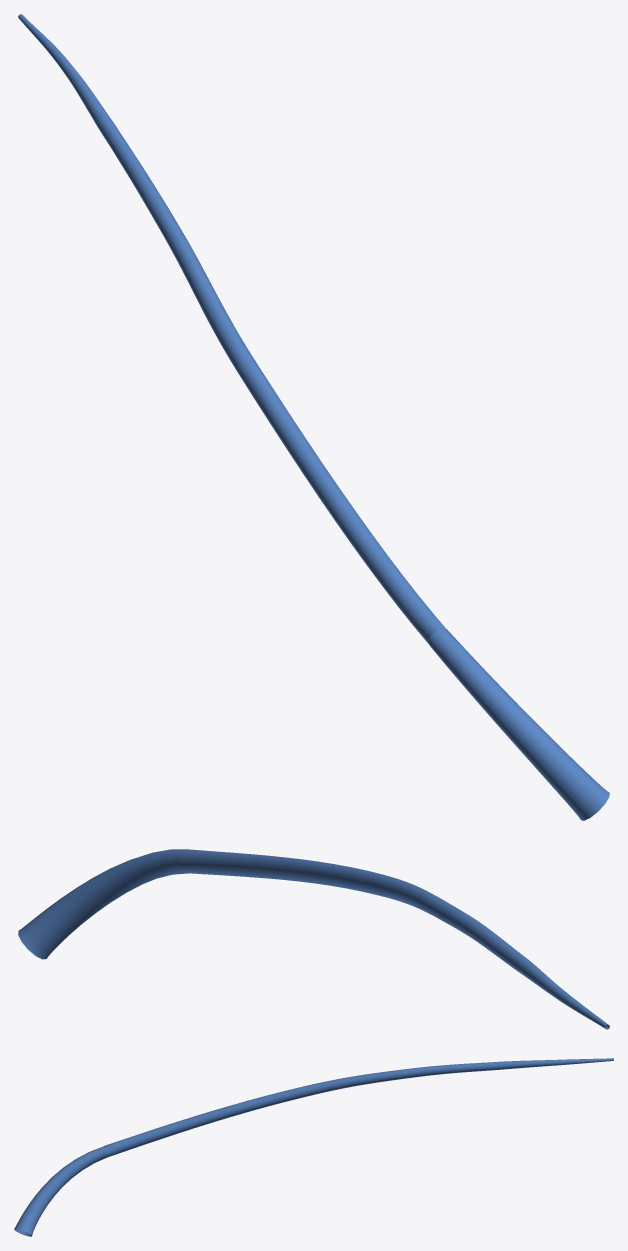
3 views of the same model, one above another, from view 1: azimuth 30°, elevation 25°; view 2: azimuth 210°, elevation 25°; view 3: azimuth 270°, elevation 25° (orthographic). The views are drawn at different scales.
Visible parts, largest first — view 1: 左侧肩胛下静脉; view 2: 左侧肩胛下静脉; view 3: 左侧肩胛下静脉.
Part boxes in pixels (bbox=[...]): 左侧肩胛下静脉: bbox=[18, 14, 609, 820]; 左侧肩胛下静脉: bbox=[18, 849, 609, 1029]; 左侧肩胛下静脉: bbox=[14, 1058, 613, 1236].
Size of the model in its own units: 0.0135 by 0.0448 by 0.1323.
